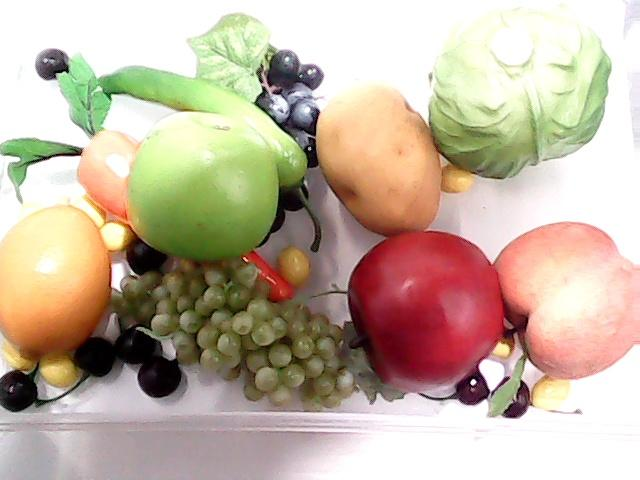apple: (338, 228, 508, 396), (122, 113, 286, 261)
cabbage: (423, 0, 614, 180)
carrot: (1, 51, 295, 305)
grape: (104, 257, 358, 416), (183, 13, 325, 166)
lemon: (0, 198, 114, 374)
peach: (492, 222, 640, 382)
pepper: (90, 33, 306, 201)
potato: (317, 80, 443, 238)
